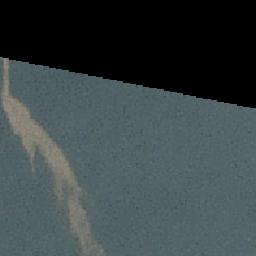debris: (67, 198, 86, 229), (7, 116, 39, 132), (22, 133, 54, 148), (3, 99, 28, 115), (39, 151, 66, 164), (78, 229, 95, 246), (53, 165, 73, 179), (2, 59, 9, 97), (67, 183, 83, 197), (54, 180, 63, 201), (28, 149, 35, 162)
